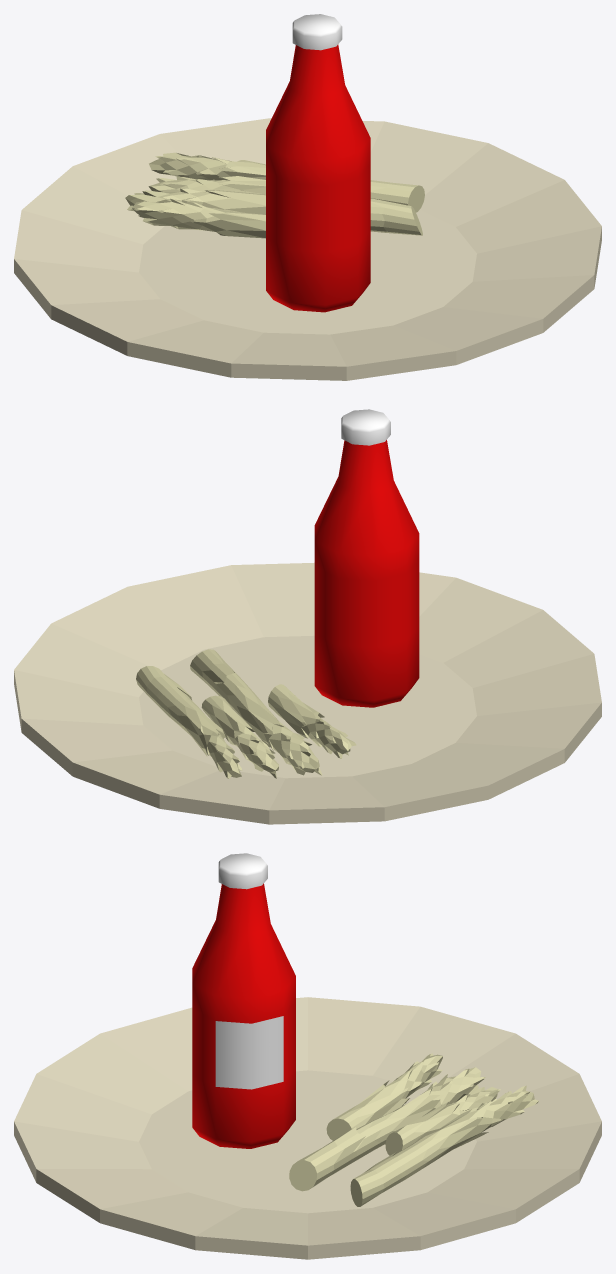
File: AspergesButchered.fbx
3 renders of one model, top to bottom at view 1: azimuth 30°, elevation 25°; view 2: azimuth 150°, elevation 25°; view 3: azimuth 270°, elevation 25°, orthographic.
Visible parts, largest first — view 1: Asperges_Moutarde_Butchered; view 2: Asperges_Moutarde_Butchered; view 3: Asperges_Moutarde_Butchered.
Part boxes in pixels (x1,y1,x2,y2): Asperges_Moutarde_Butchered: (14,14,601,380); Asperges_Moutarde_Butchered: (14,409,601,824); Asperges_Moutarde_Butchered: (14,853,601,1259).
Size of the model in its own units: 0.6488 by 0.6488 by 0.3619.
